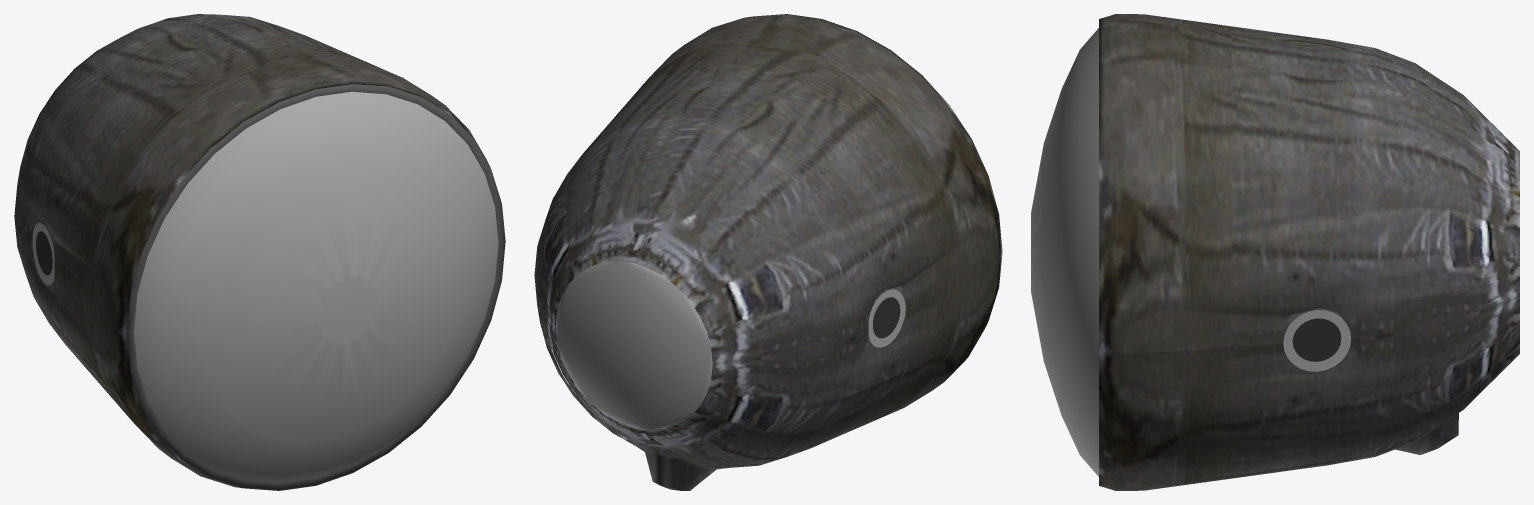
File: soyuz-descent.obj
3 renders of one model, left to right at view 1: azimuth 30°, elevation 25°; view 2: azimuth 150°, elevation 25°; view 3: azimuth 270°, elevation 25°, orthographic. The views are drawn at different scales.
Visible parts, largest first — view 1: group1, group2, group0, group3; view 2: group2, group1, group3; view 3: group2, group1, group3.
Part boxes in pixels (x1,y1,x2,y2): group1: [32, 91, 498, 483]; group2: [14, 14, 490, 488]; group0: [31, 84, 505, 490]; group3: [36, 231, 52, 275]; group2: [534, 14, 1002, 490]; group1: [555, 261, 905, 429]; group3: [872, 297, 900, 338]; group2: [1099, 14, 1519, 490]; group1: [1031, 28, 1350, 476]; group3: [1292, 318, 1341, 361].
Size of the model in its own units: 2.23 by 2.23 by 2.28.
Materials: 4 (1 with a texture image).
